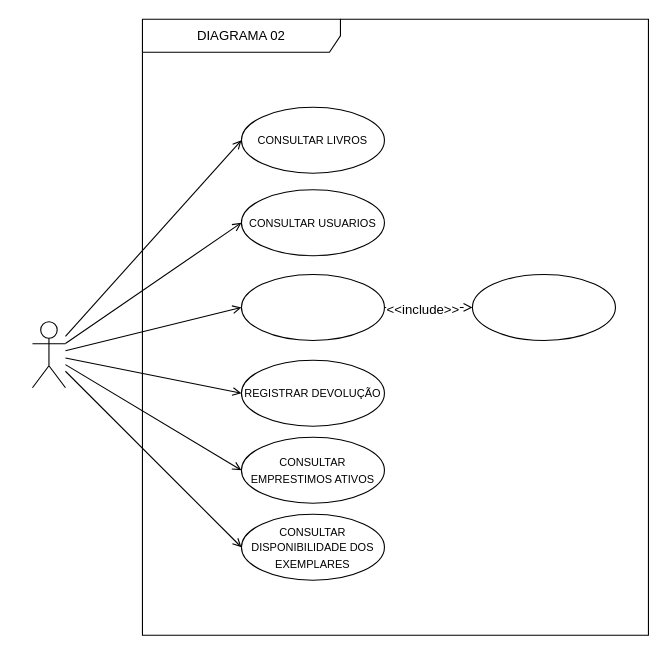
Image size: 668x655. Some labels were removed from this diagram. The centre of each missing label's shape, as x and y in pixels:
"Atendente" belongs at [48,354].
"REGISTRAR EMPRESTIMO" belongs at [312,306].
"VERIFICAR SE O EXEMPLAR ESTA DISPONIVEL" belongs at [543,306].
